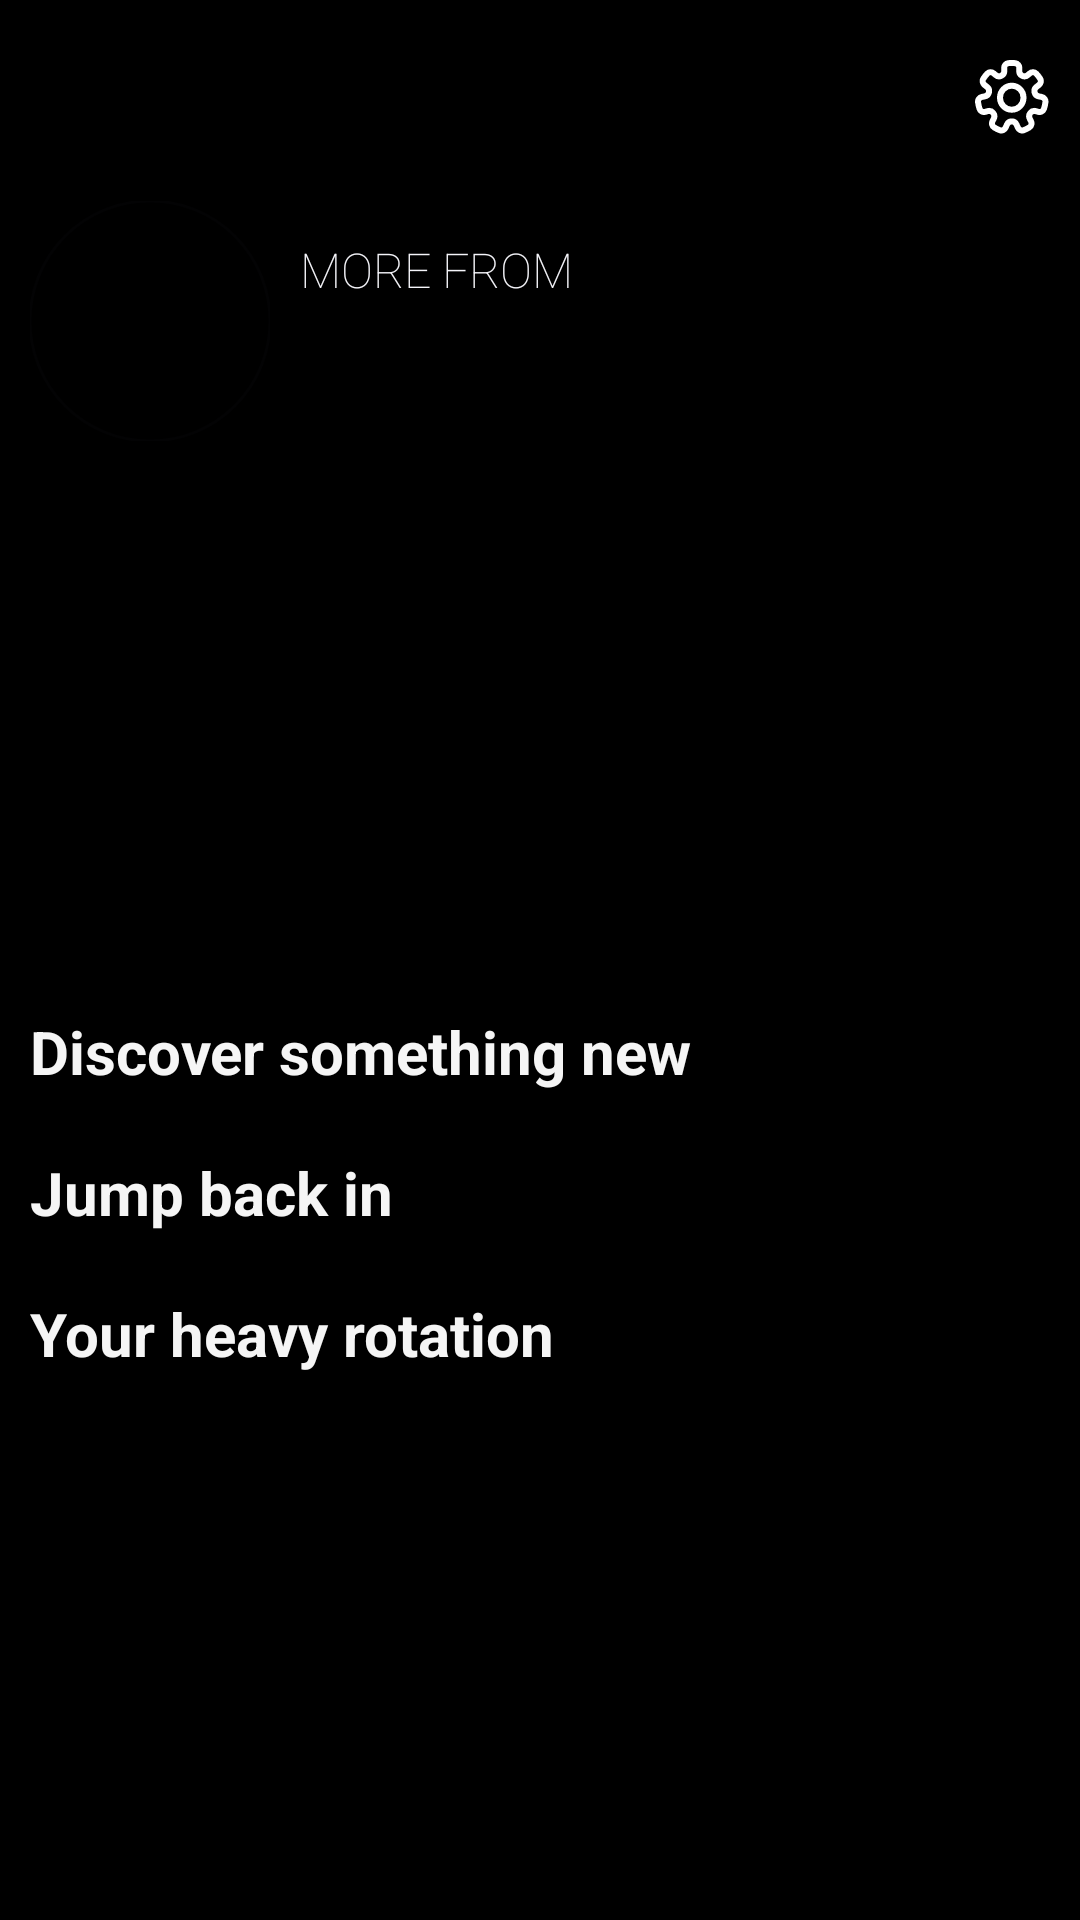

Icon click points for this 1080w x 1920h phone screenshot, format (x,y):
settings: (1012,97)
